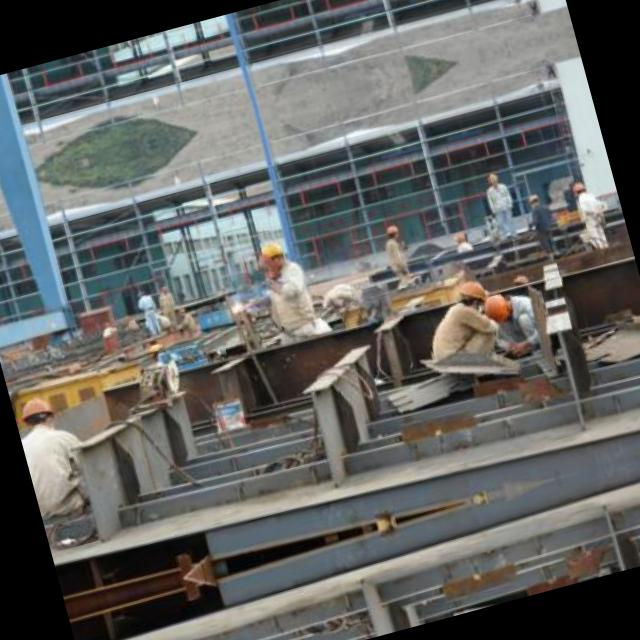helmet: (14, 389, 58, 438), (453, 276, 489, 312), (480, 288, 516, 324), (258, 234, 285, 269), (569, 177, 585, 195), (384, 221, 399, 240)
